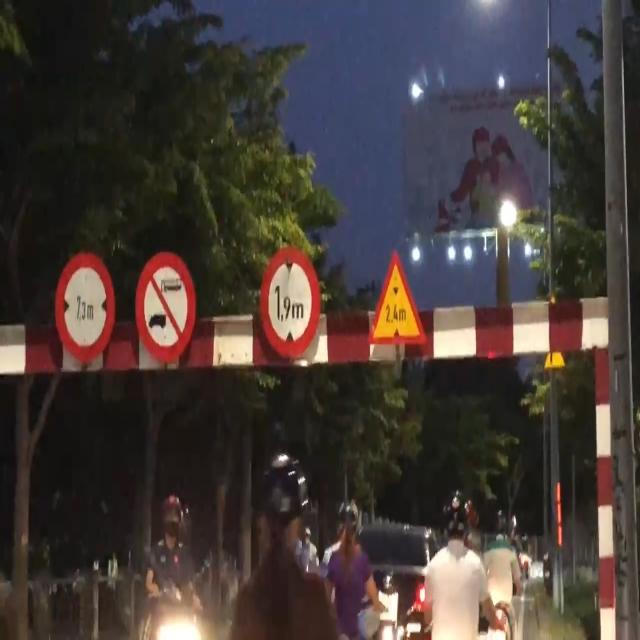Bien bao cam xe oto khach va xe oto tai: (132, 246, 196, 364)
Bien bao chieu cao tinh khong thuc te: (362, 248, 431, 348)
Bien bao han che chieu cao: (254, 236, 326, 368)
